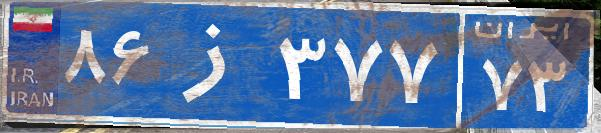3: (273, 28, 330, 110), (525, 38, 570, 115)
6: (110, 28, 158, 105)
7: (385, 28, 445, 110), (330, 28, 385, 110), (475, 38, 525, 113)
8: (57, 26, 110, 107)
ز: (158, 15, 273, 115)
